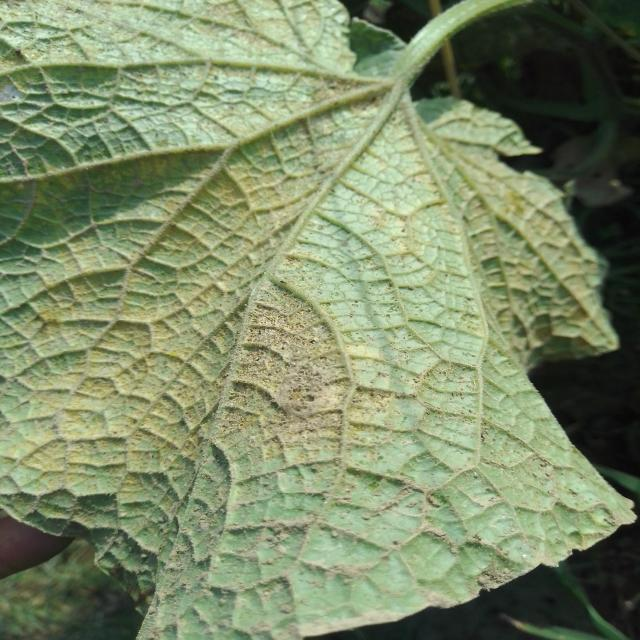cucumber_downy: (0, 3, 595, 605)
